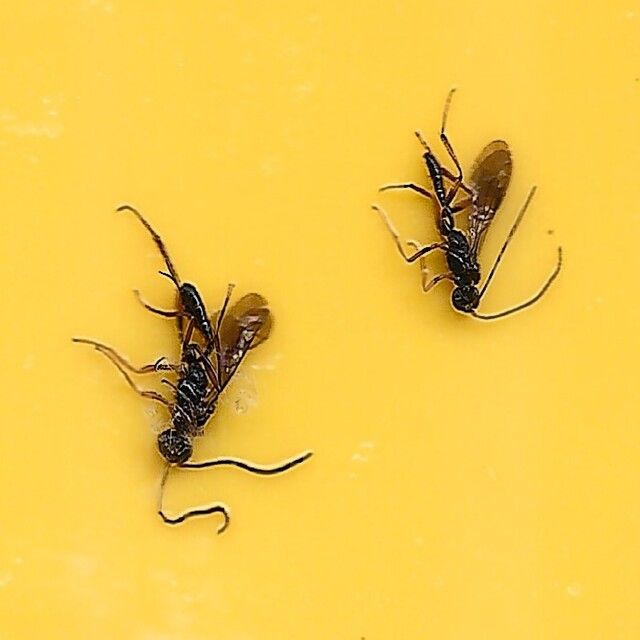Hymenoptera: (75, 200, 313, 544), (378, 96, 565, 327)
